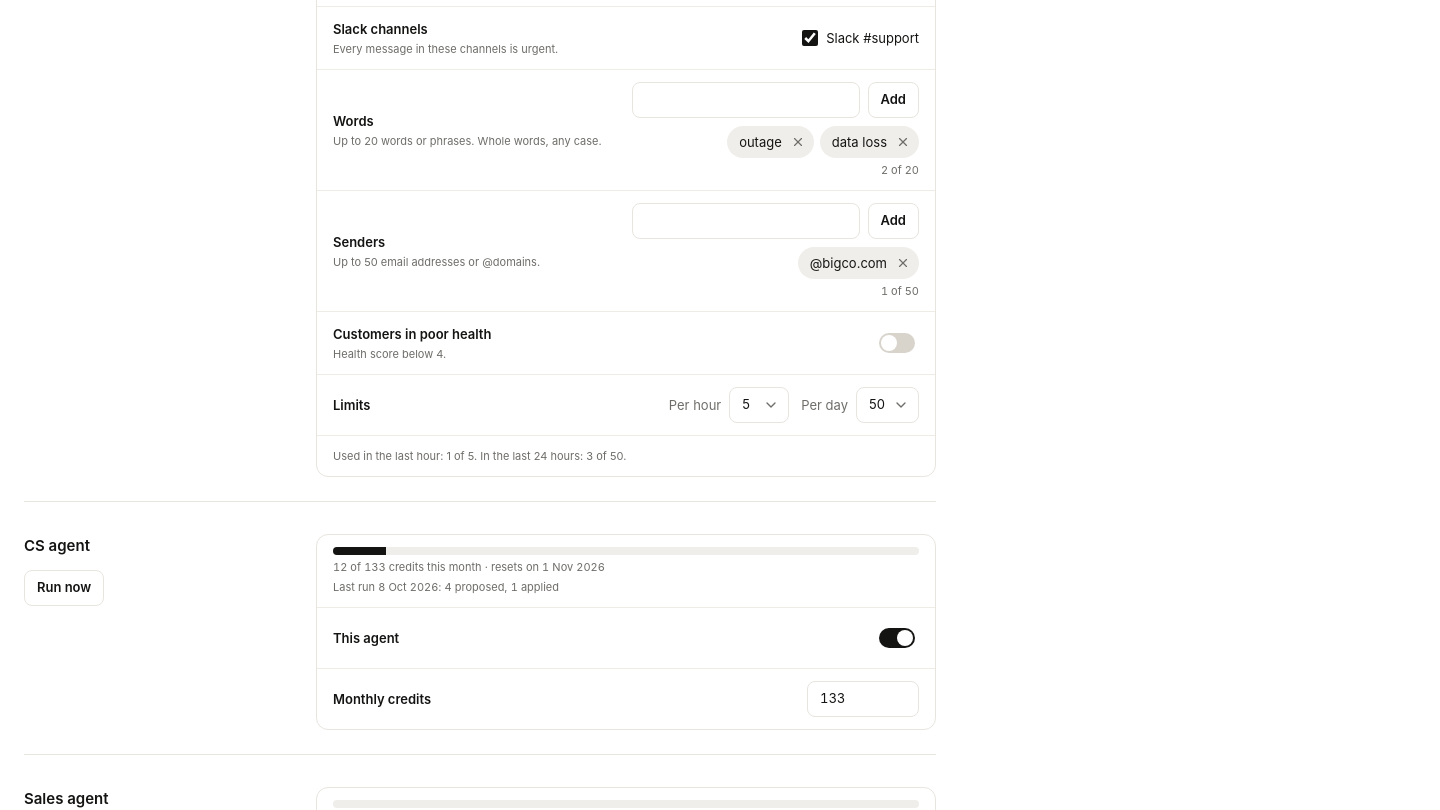
Test: FastLane (round 2 D3 frontend Decision 7) › undoes a lowered day by sending both limits back
This screenshot has width=1440, height=810.
(page scrolled)
Select "2" in the dropdown labelled "Per day" at (888, 405), box x1=856 y1=387 x2=919 y2=423
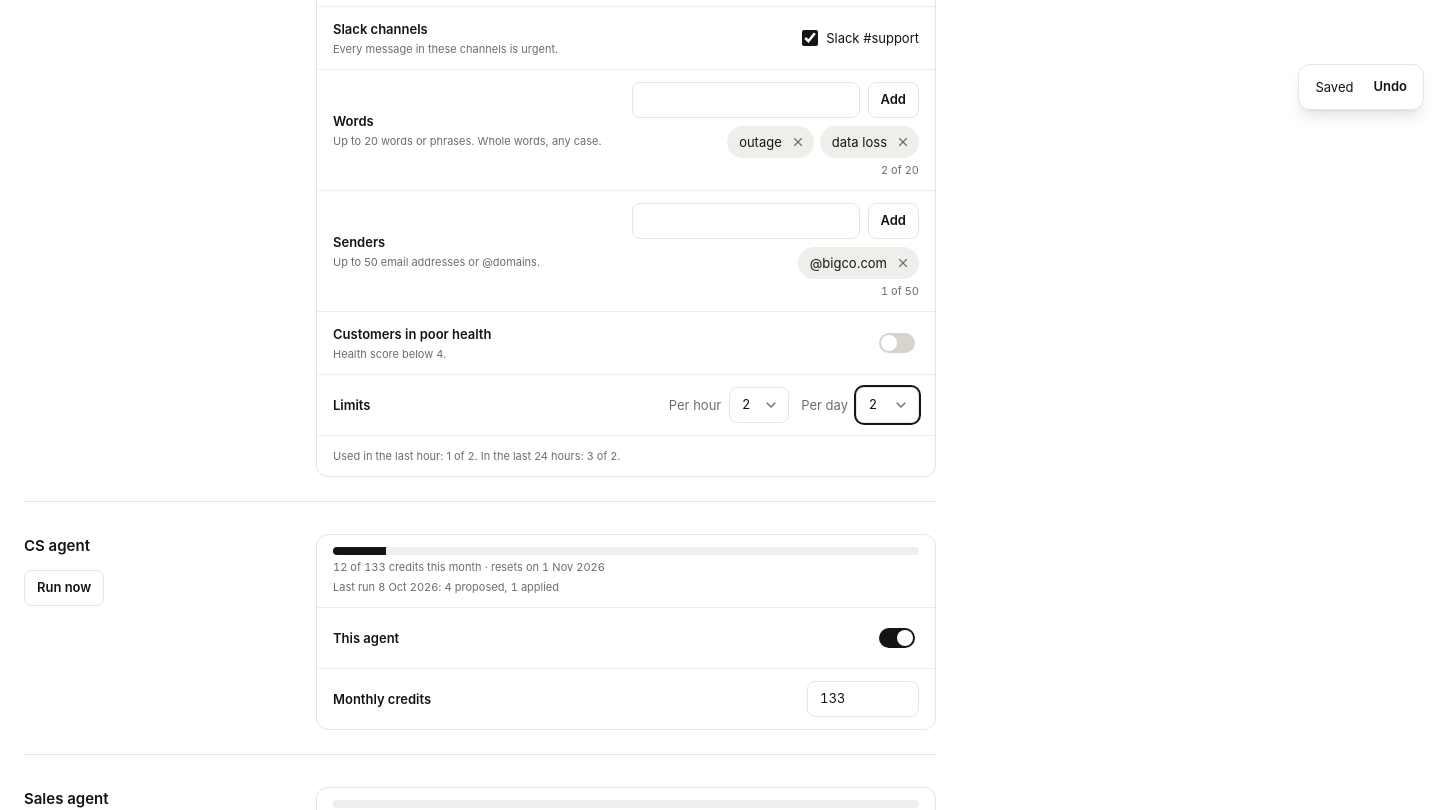
Result: the dropdown labelled "Per hour" shows "2" at x1=729 y1=387 x2=789 y2=423
Click the button "Undo" at (1390, 87), box x1=1361 y1=69 x2=1419 y2=105
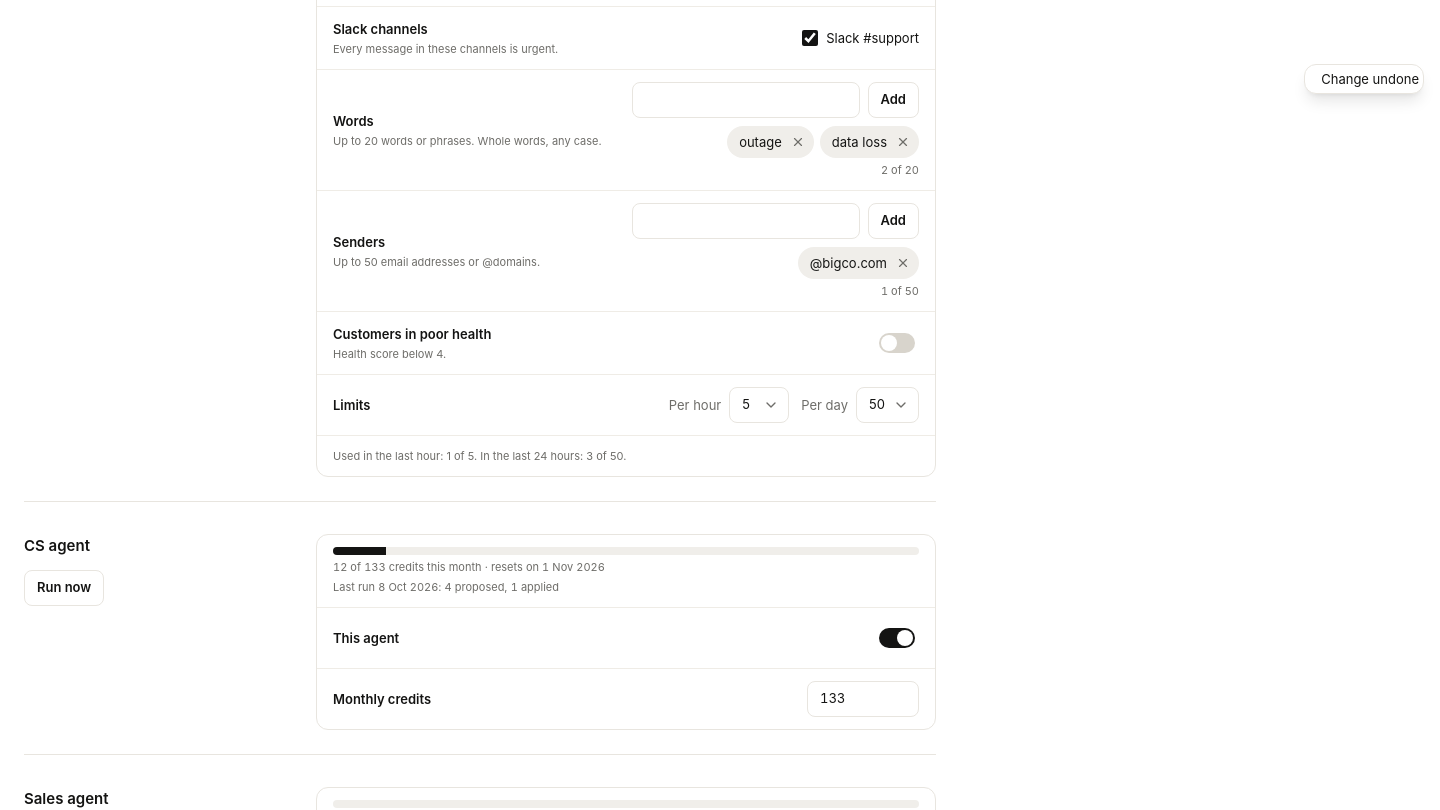
Result: the dropdown labelled "Per hour" shows "5" at x1=729 y1=387 x2=789 y2=423
